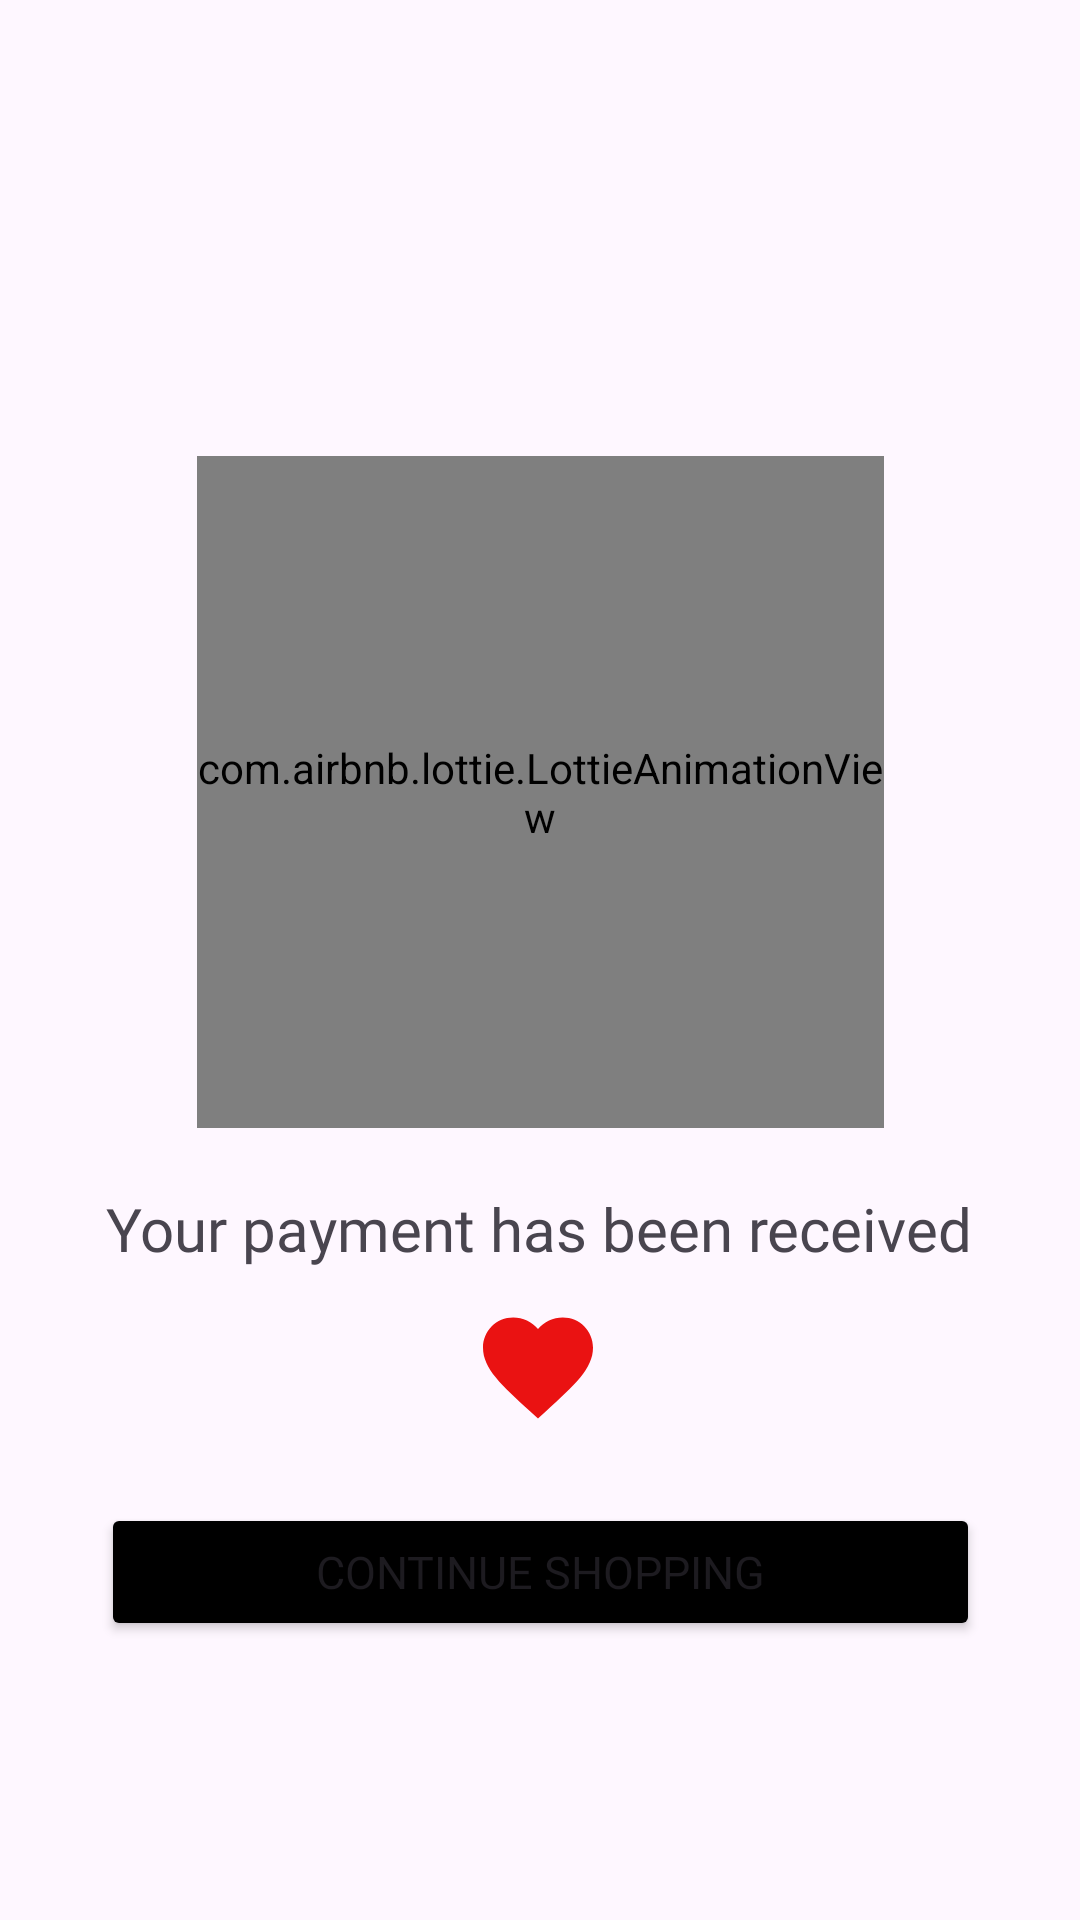

Named icons in this screenshot (1080 × 1920) and their centers, (x=x, y=y):
favorite: (x=538, y=1368)
